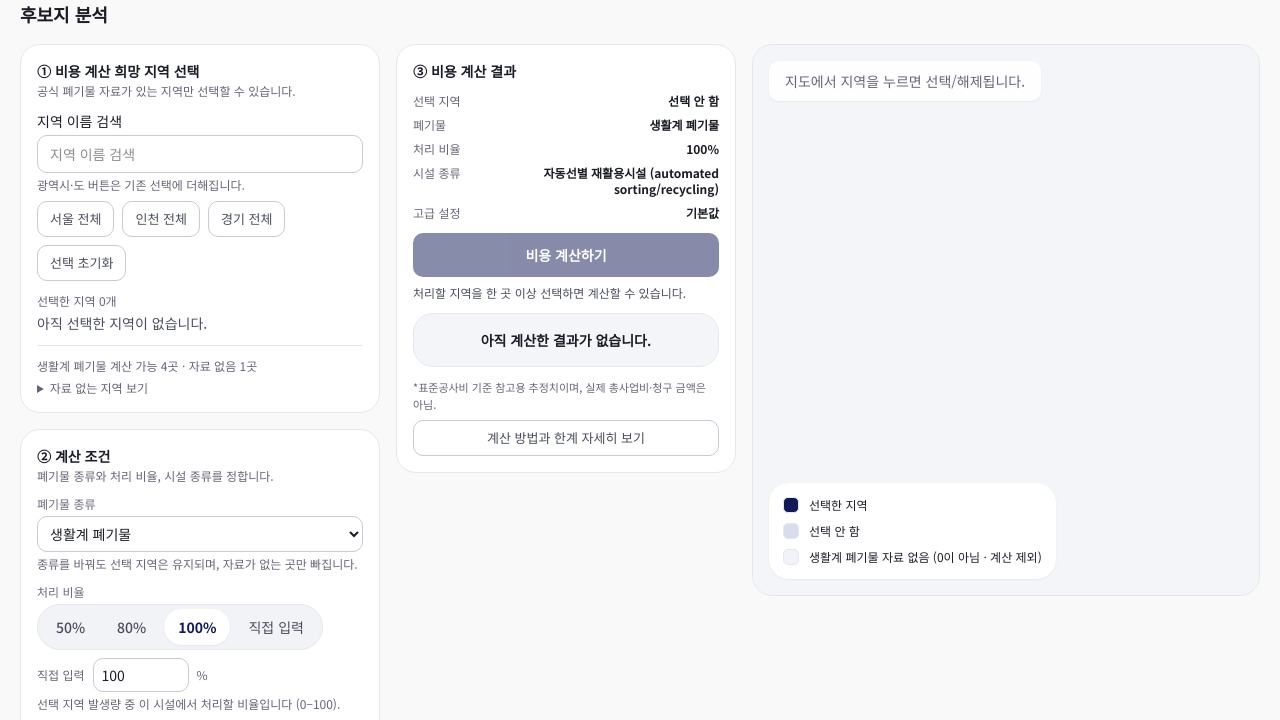
Test case: citizen framing › shows the neutral title and the decision-support disclaimer
The width and height of the screenshot is (1280, 720).
Expected: the heading "후보지 분석" is shown, [20,0,108,28]
Click the button with test id "facility-cost-open-details": (566, 438) [413,420,719,456]
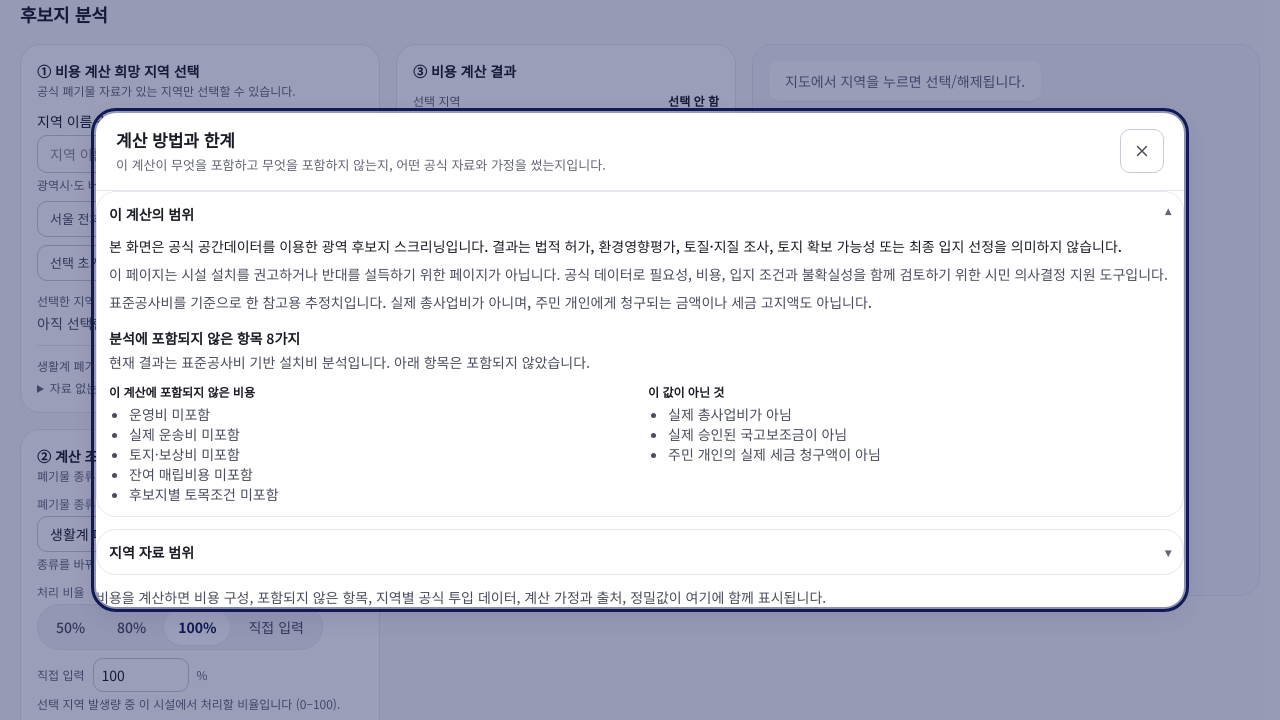
Result: the dialog with test id "facility-cost-details" is shown at [96,113,1184,607]
Result: the text with test id "facility-cost-disclaimer" shows "권고하거나 반대를 설득하기 위한 페이지가 아닙니다" at [109,264,1168,284]
Result: the text with test id "facility-cost-disclaimer" shows "시민 의사결정 지원 도구" at [109,264,1168,284]
